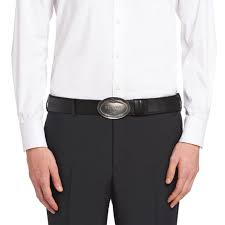F_belt: (39, 90, 193, 124)
F_dress pants: (38, 113, 186, 223)
